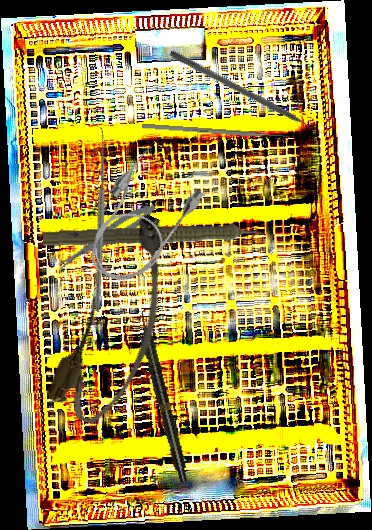Cannula: (41, 206, 201, 434), (68, 140, 211, 298)
Handpiece: (134, 309, 191, 484), (42, 219, 276, 256)
Hook Surgical: (9, 122, 184, 314)
Micro Scissor: (52, 198, 160, 275)
Pusher: (168, 49, 327, 140), (142, 123, 296, 140)
